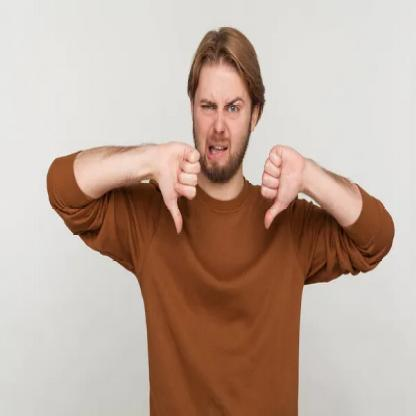thumb_down: (154, 136, 202, 235), (257, 141, 306, 232)
